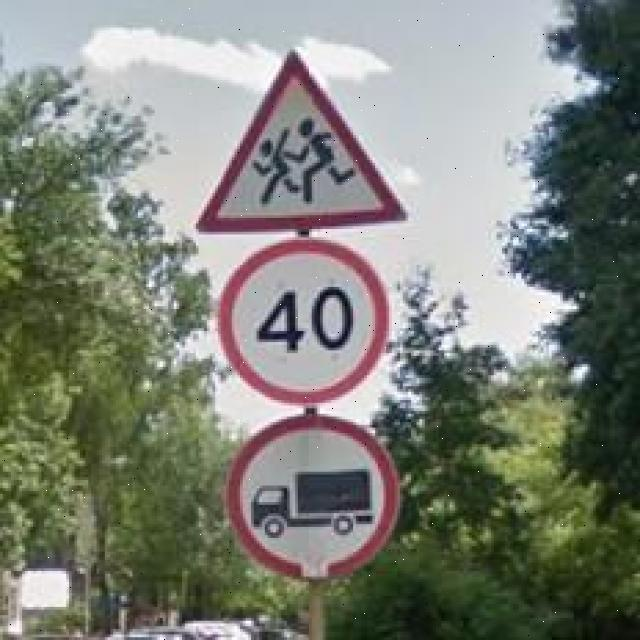speed limit 40: (220, 237, 392, 407)
